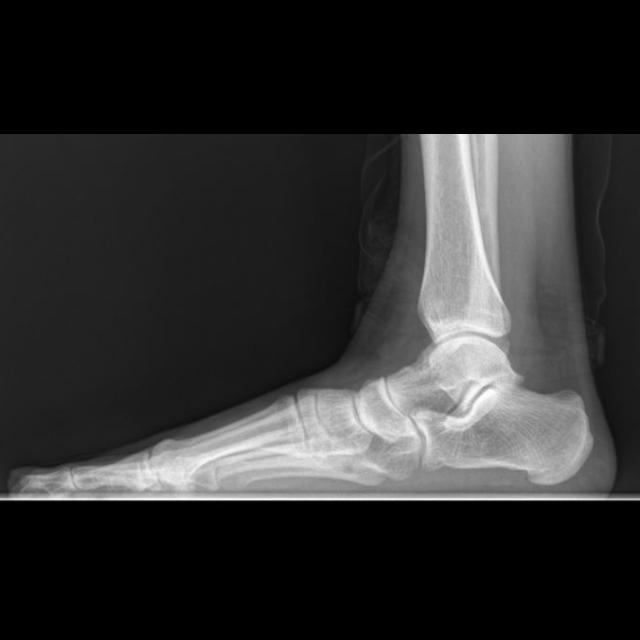a: (410, 375, 595, 486)
b: (357, 376, 407, 444)
c: (150, 396, 310, 482)
